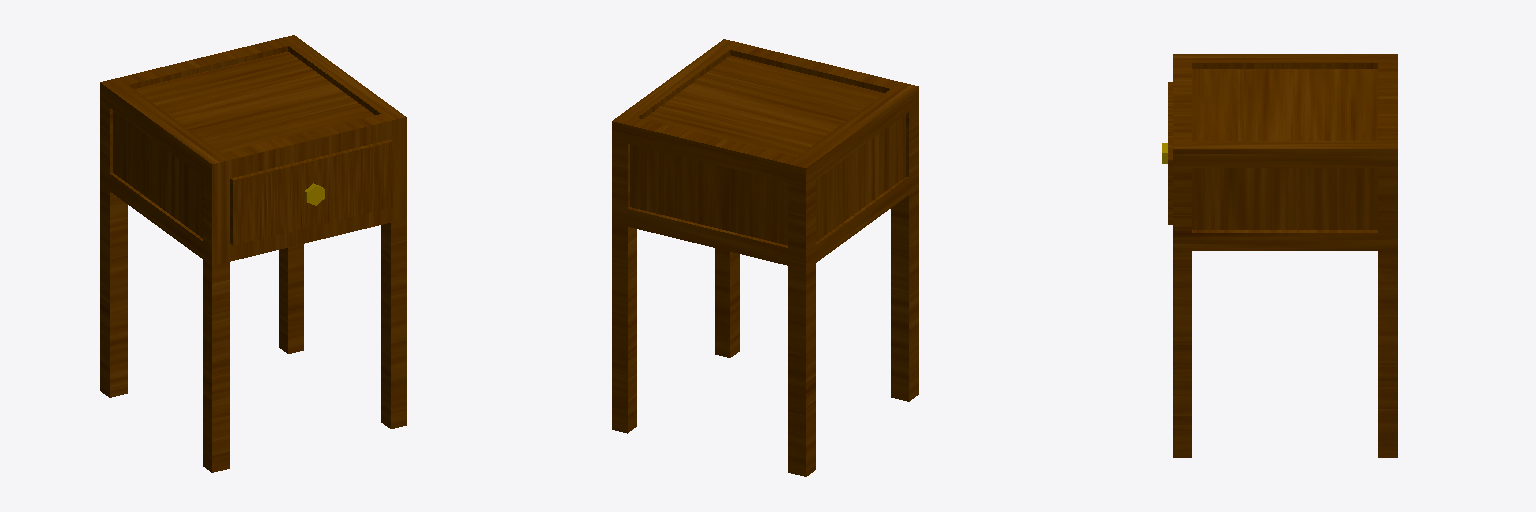
3 renders of one model, left to right at view 1: azimuth 30°, elevation 25°; view 2: azimuth 150°, elevation 25°; view 3: azimuth 270°, elevation 25°, orthographic.
Visible parts, largest first — view 1: Cube; view 2: Cube; view 3: Cube.
Boxes of the visible parts, box(x1,y1,x2,y2) form: Cube: box(100, 35, 406, 472); Cube: box(612, 39, 918, 476); Cube: box(1162, 54, 1397, 457).
Bounding box in the file's own units: 2 × 3.03 × 2.1.
1 materials, 1 textured.